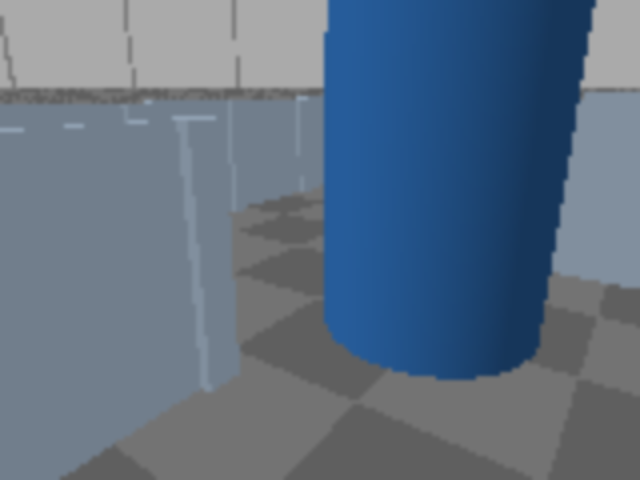person: (341, 0, 638, 365)
